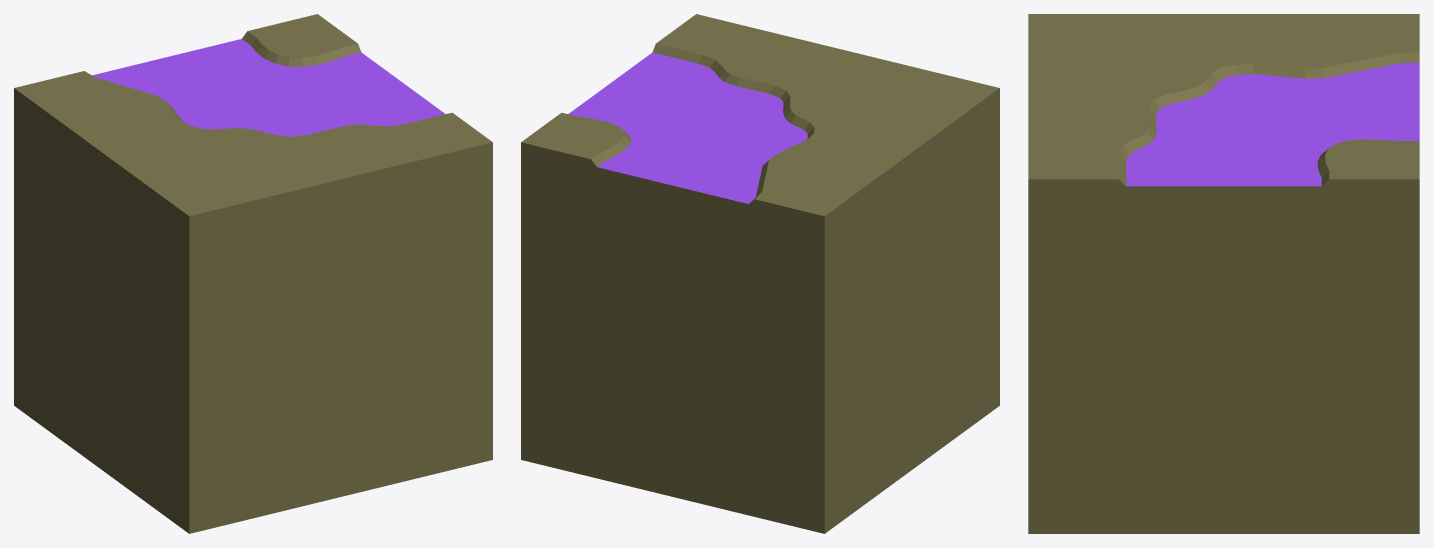
The model's file is tile_toxic_4_03.fbx.
3 renders of one model, left to right at view 1: azimuth 30°, elevation 25°; view 2: azimuth 150°, elevation 25°; view 3: azimuth 270°, elevation 25°, orthographic. The views are drawn at different scales.
Visible parts, largest first — view 1: tile_toxic_4_03; view 2: tile_toxic_4_03; view 3: tile_toxic_4_03.
Boxes of the visible parts, x1,y1,x2,y2 form: tile_toxic_4_03: (14, 14, 492, 533); tile_toxic_4_03: (521, 14, 999, 533); tile_toxic_4_03: (1028, 14, 1419, 533).
Size of the model in its own units: 100 by 100 by 100.
